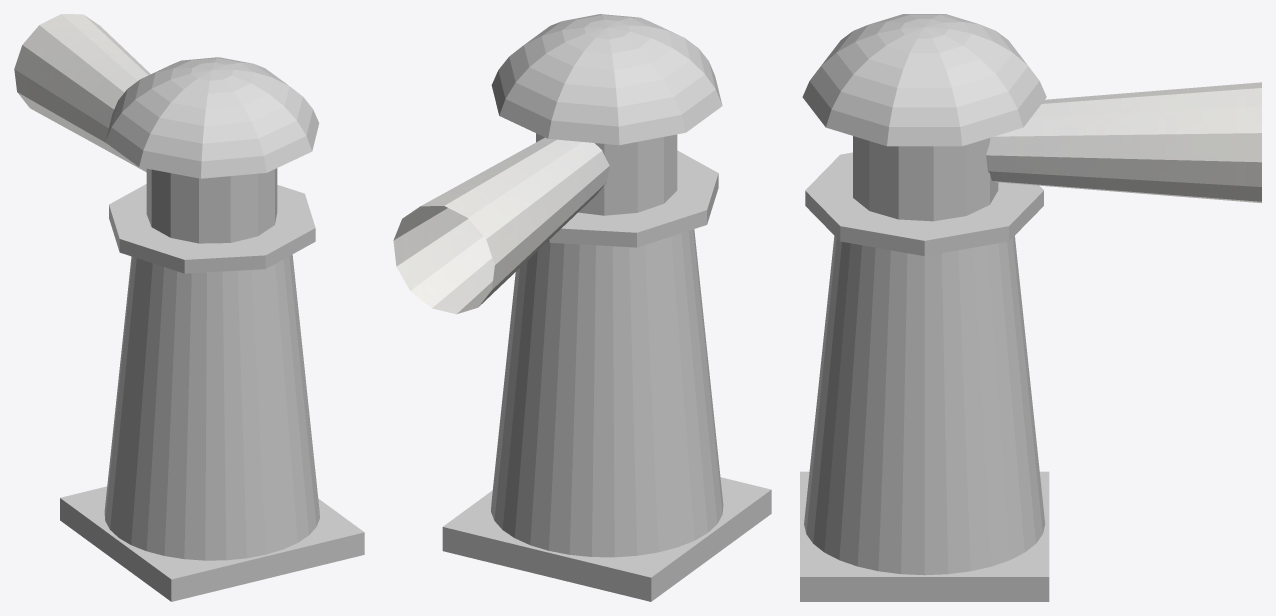
File: lighthouse2.fbx
3 views of the same model, side by side, from view 1: azimuth 30°, elevation 25°; view 2: azimuth 150°, elevation 25°; view 3: azimuth 270°, elevation 25° (orthographic). The views are drawn at different scales.
Visible parts, largest first — view 1: body, top.002, lightRay, floor, lightRim, lightHousing; view 2: body, top.002, lightRay, floor, lightRim, lightHousing; view 3: body, lightRay, top.002, floor, lightRim, lightHousing.
Part boxes in pixels (x1,y1,x2,y2): body: [104, 254, 319, 560]; top.002: [105, 57, 319, 178]; lightRay: [14, 14, 150, 172]; floor: [60, 486, 364, 601]; lightRim: [109, 184, 315, 273]; lightHousing: [146, 168, 277, 243]; body: [491, 229, 723, 557]; top.002: [491, 14, 722, 145]; lightRay: [393, 137, 609, 314]; floor: [442, 477, 771, 601]; lightRim: [547, 150, 718, 247]; lightHousing: [536, 133, 677, 215]; body: [804, 236, 1045, 575]; lightRay: [986, 82, 1261, 203]; top.002: [802, 14, 1046, 146]; floor: [800, 471, 1049, 601]; lightRim: [805, 152, 1043, 256]; lightHousing: [853, 136, 998, 221].
Size of the model in its own units: 200 by 462 by 371.
